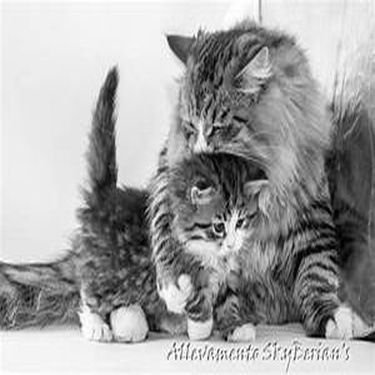cat: (149, 19, 373, 340), (70, 63, 268, 344)
